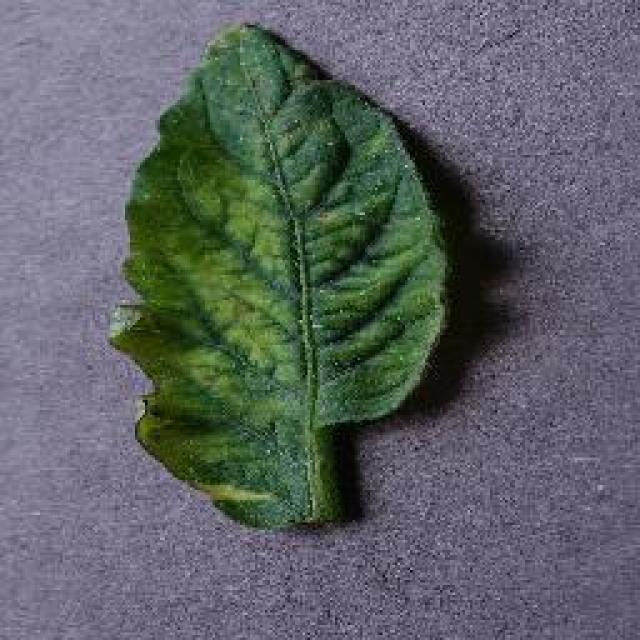Tomato spider mites leaf: (105, 19, 455, 536)
